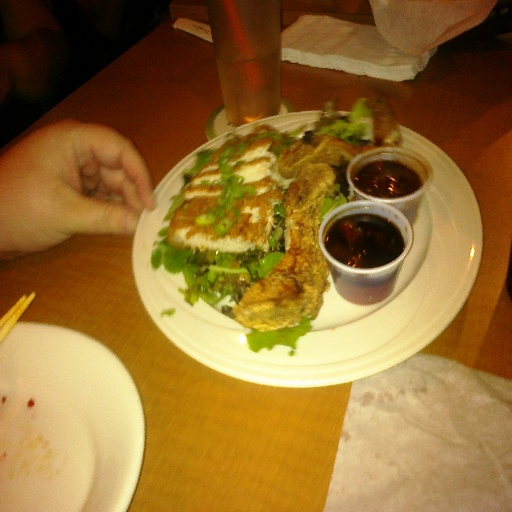hand: (0, 119, 169, 258)
